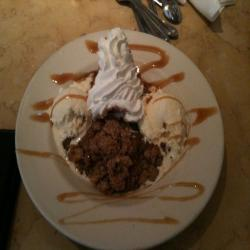chantilly: (81, 29, 146, 121)
icecream: (39, 81, 100, 149), (135, 90, 199, 154)
